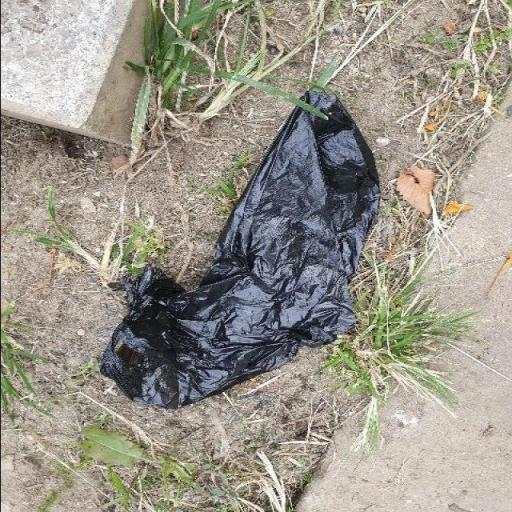plastic-bag: (101, 90, 378, 411)
